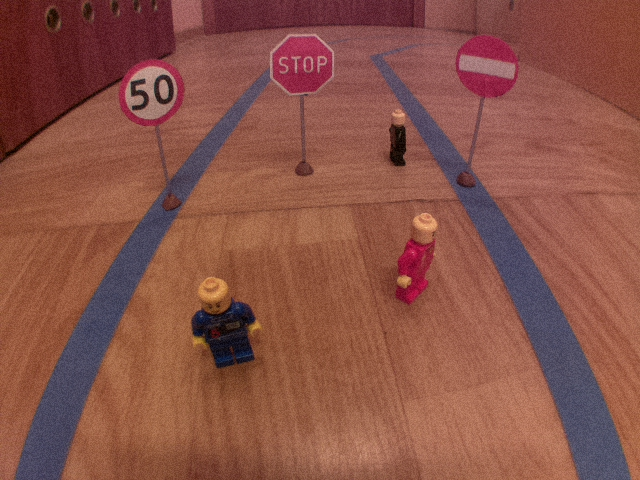LEGO_person: (187, 275, 264, 371), (393, 211, 441, 307), (386, 108, 410, 170)
ogr_50: (116, 57, 187, 128)
stop: (268, 29, 338, 99)
zakaz: (453, 33, 521, 100)
